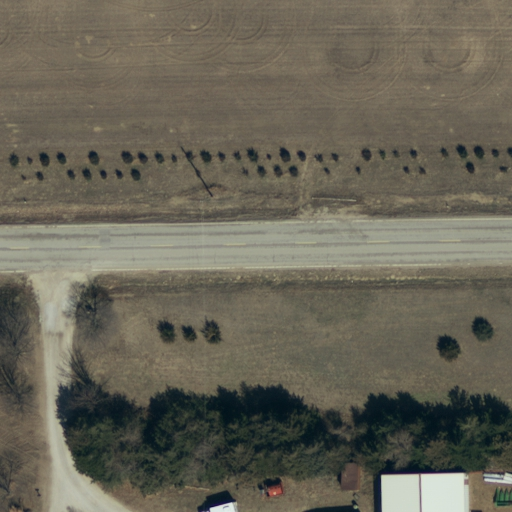DT: (202, 187, 220, 207)
